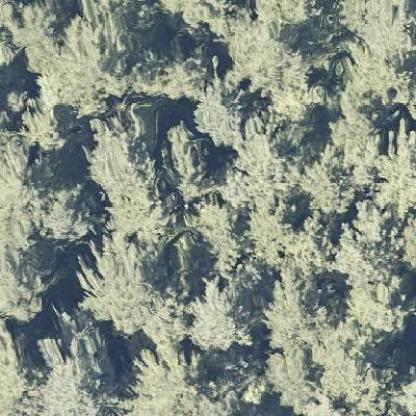tree-top: (76, 231, 154, 336), (30, 178, 102, 248), (186, 278, 254, 352), (157, 118, 215, 199), (191, 76, 244, 150)
